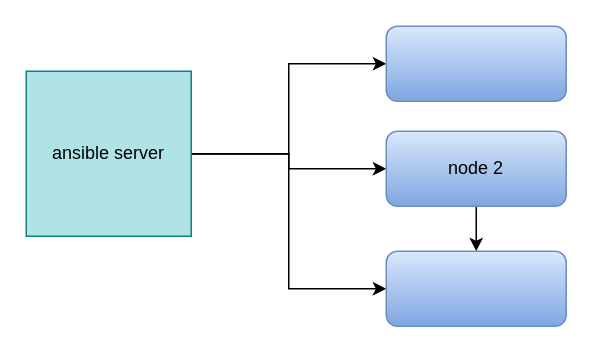
This 593x353 diagram has some shape labels left out. Here are the shapes that lost their labels. From the top down, the box of each, then its label:
(385, 25, 566, 101): Node 1
(385, 250, 566, 326): Node 3
